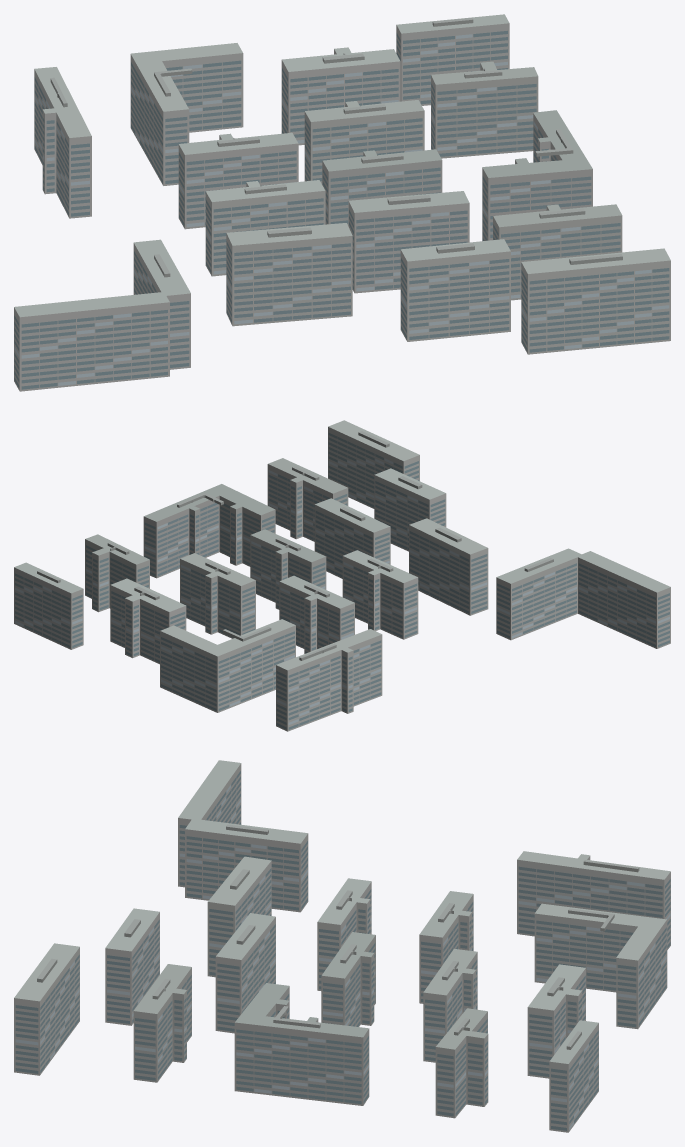
The model's file is apt-a13551103.glb.
3 views of the same model, one above another, from view 1: azimuth 30°, elevation 25°; view 2: azimuth 150°, elevation 25°; view 3: azimuth 270°, elevation 25° (orthographic). The views are drawn at different scales.
Parts seen in each view (by area): view 1: apt-a13551103; view 2: apt-a13551103; view 3: apt-a13551103.
Part boxes in pixels (x1,y1,x2,y2): apt-a13551103: (14,14,670,391); apt-a13551103: (14,420,670,731); apt-a13551103: (14,760,670,1132).
Bounding box in the file's own units: 347 × 41.43 × 317.
